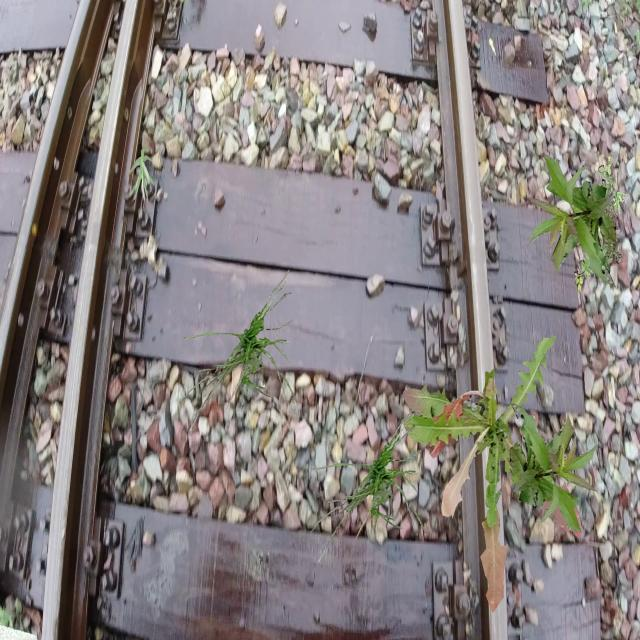Plant: (402, 336, 582, 614), (181, 270, 300, 433), (310, 401, 428, 564), (528, 155, 616, 285), (510, 404, 598, 534), (574, 154, 622, 292), (128, 146, 154, 202), (613, 192, 627, 212)
